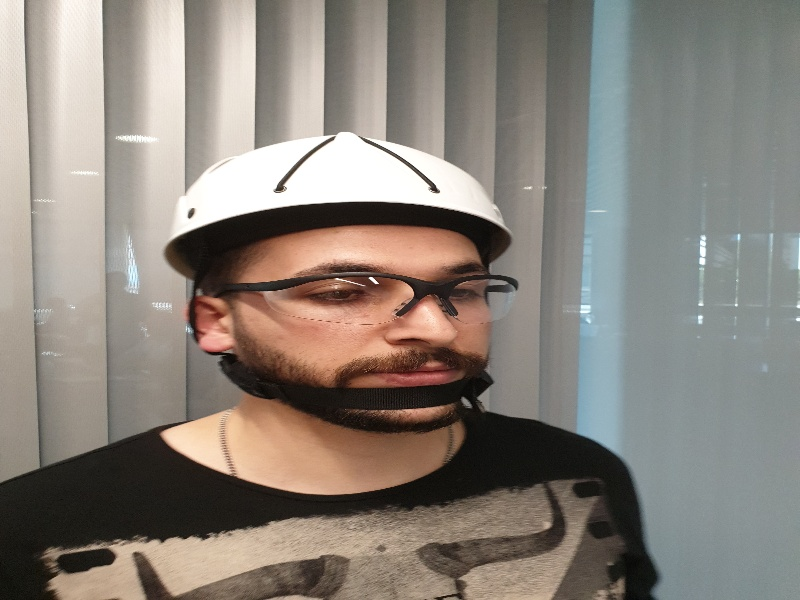Baret: (168, 131, 512, 239)
Gozluk: (195, 274, 516, 325)
